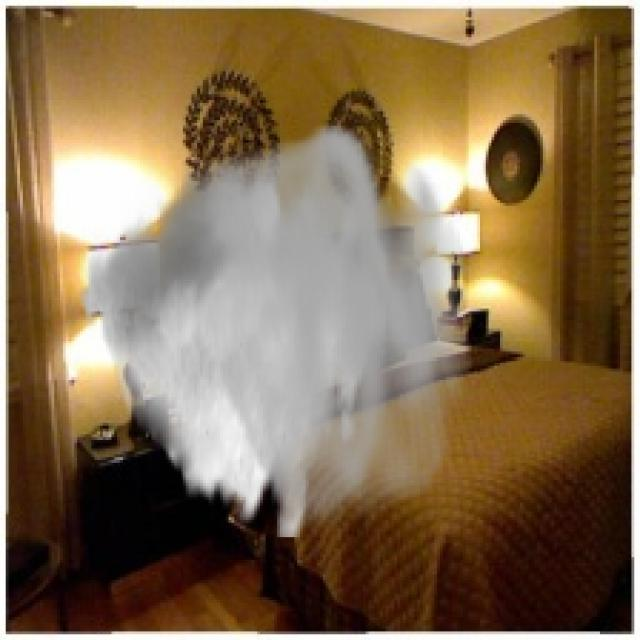smoke: (77, 117, 472, 537)
